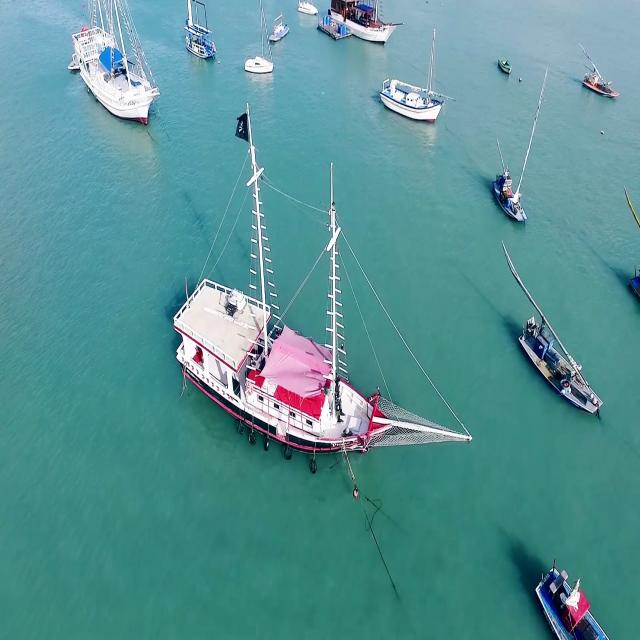ship: (173, 205, 464, 477), (512, 311, 612, 416), (70, 16, 155, 137), (522, 567, 617, 634), (329, 1, 394, 54), (489, 162, 536, 222), (379, 75, 442, 119), (178, 6, 224, 63), (576, 67, 621, 102), (240, 51, 277, 77), (267, 10, 291, 46), (496, 54, 514, 74), (300, 0, 319, 17)
